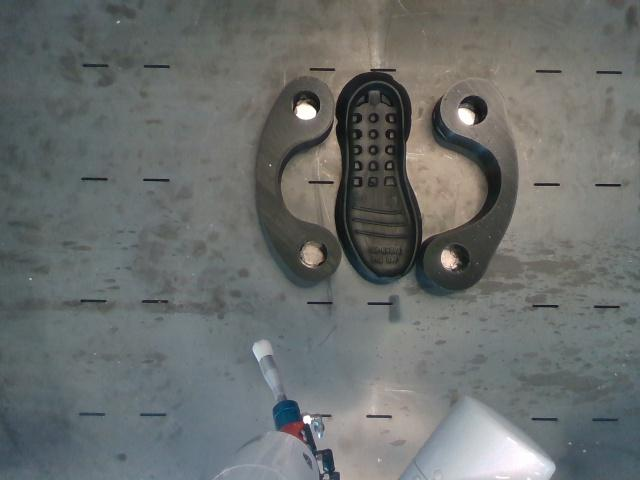shoes: (346, 83, 417, 278)
